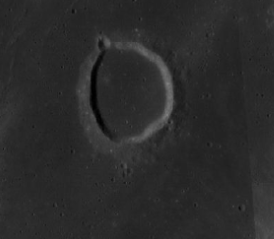crater: (37, 22, 229, 192)
